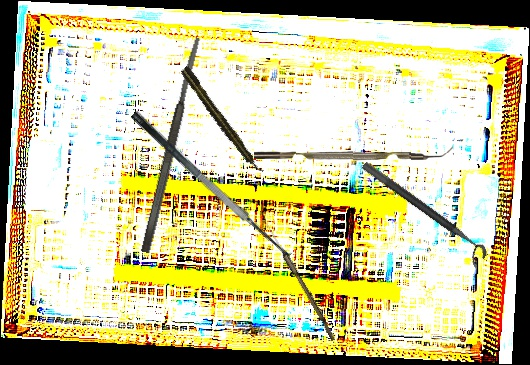Chopper: (254, 141, 453, 163)
Fixation Ring: (353, 160, 491, 269)
Handpiece: (178, 64, 266, 178)
Spatula Surgical: (129, 97, 302, 265), (138, 36, 205, 254)
Surgical Spoon: (262, 221, 339, 342)
